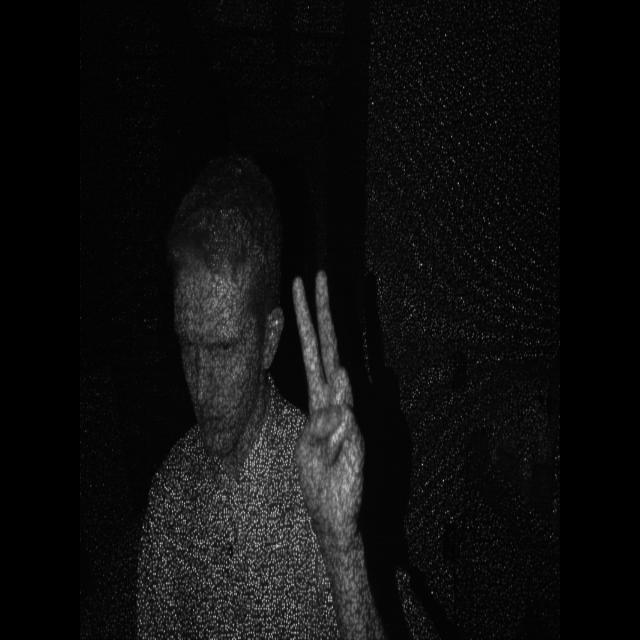V: (282, 262, 374, 538)
